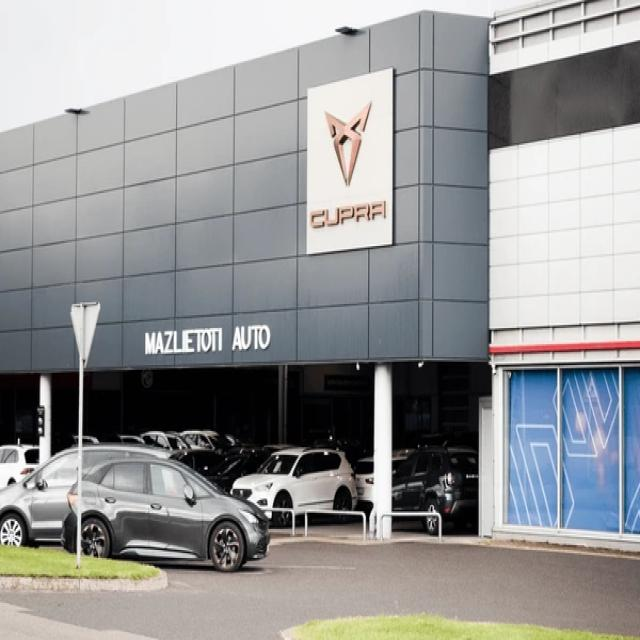cupra: (320, 102, 384, 196)
